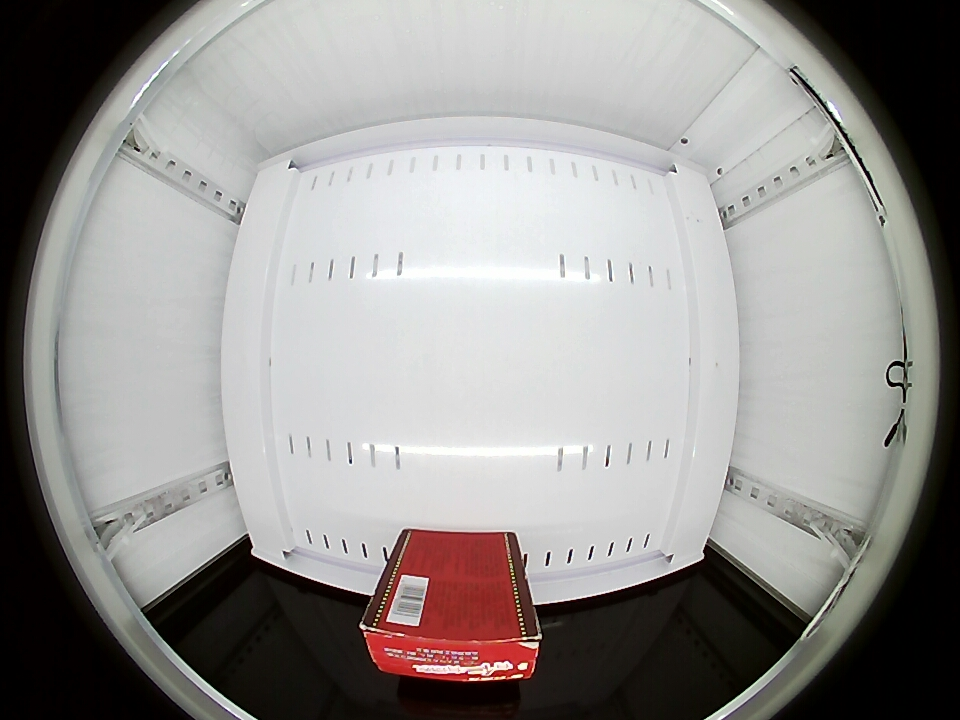haoliyou: (360, 535, 540, 685)
